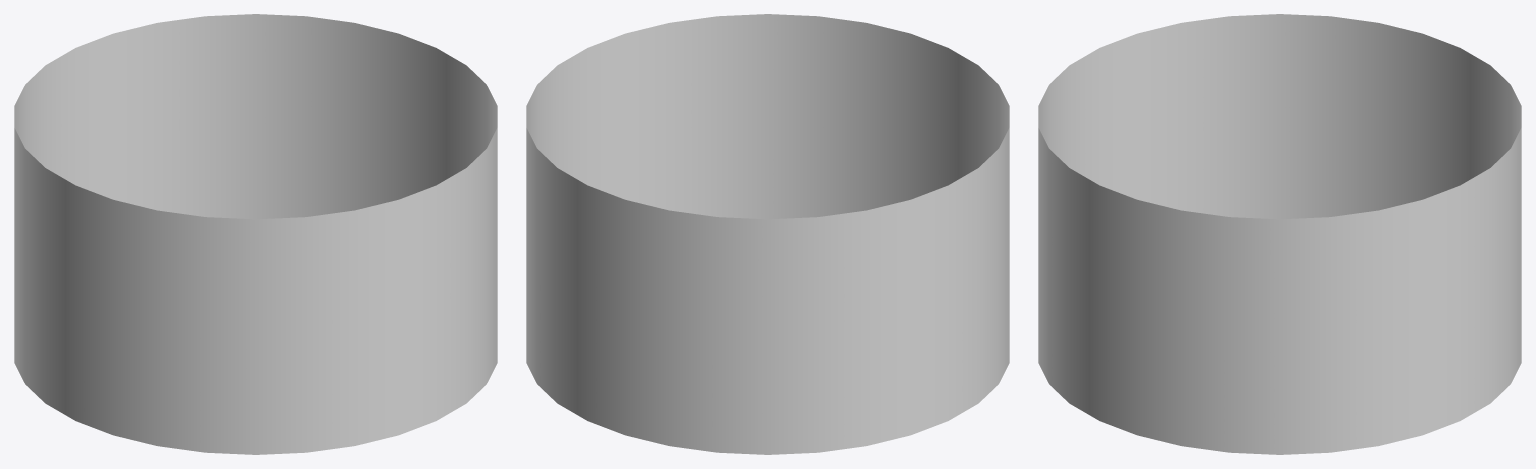
Rendered from Mission.fbx.
3 views of the same model, side by side, from view 1: azimuth 30°, elevation 25°; view 2: azimuth 150°, elevation 25°; view 3: azimuth 270°, elevation 25° (orthographic).
Visible parts, largest first — view 1: Mission; view 2: Mission; view 3: Mission.
Part boxes in pixels (bbox=[...]): Mission: bbox=[14, 14, 497, 454]; Mission: bbox=[526, 14, 1009, 454]; Mission: bbox=[1038, 14, 1521, 454].
Bounding box in the file's own units: 93.15 × 49.85 × 92.64.
1 material, 1 textured.
